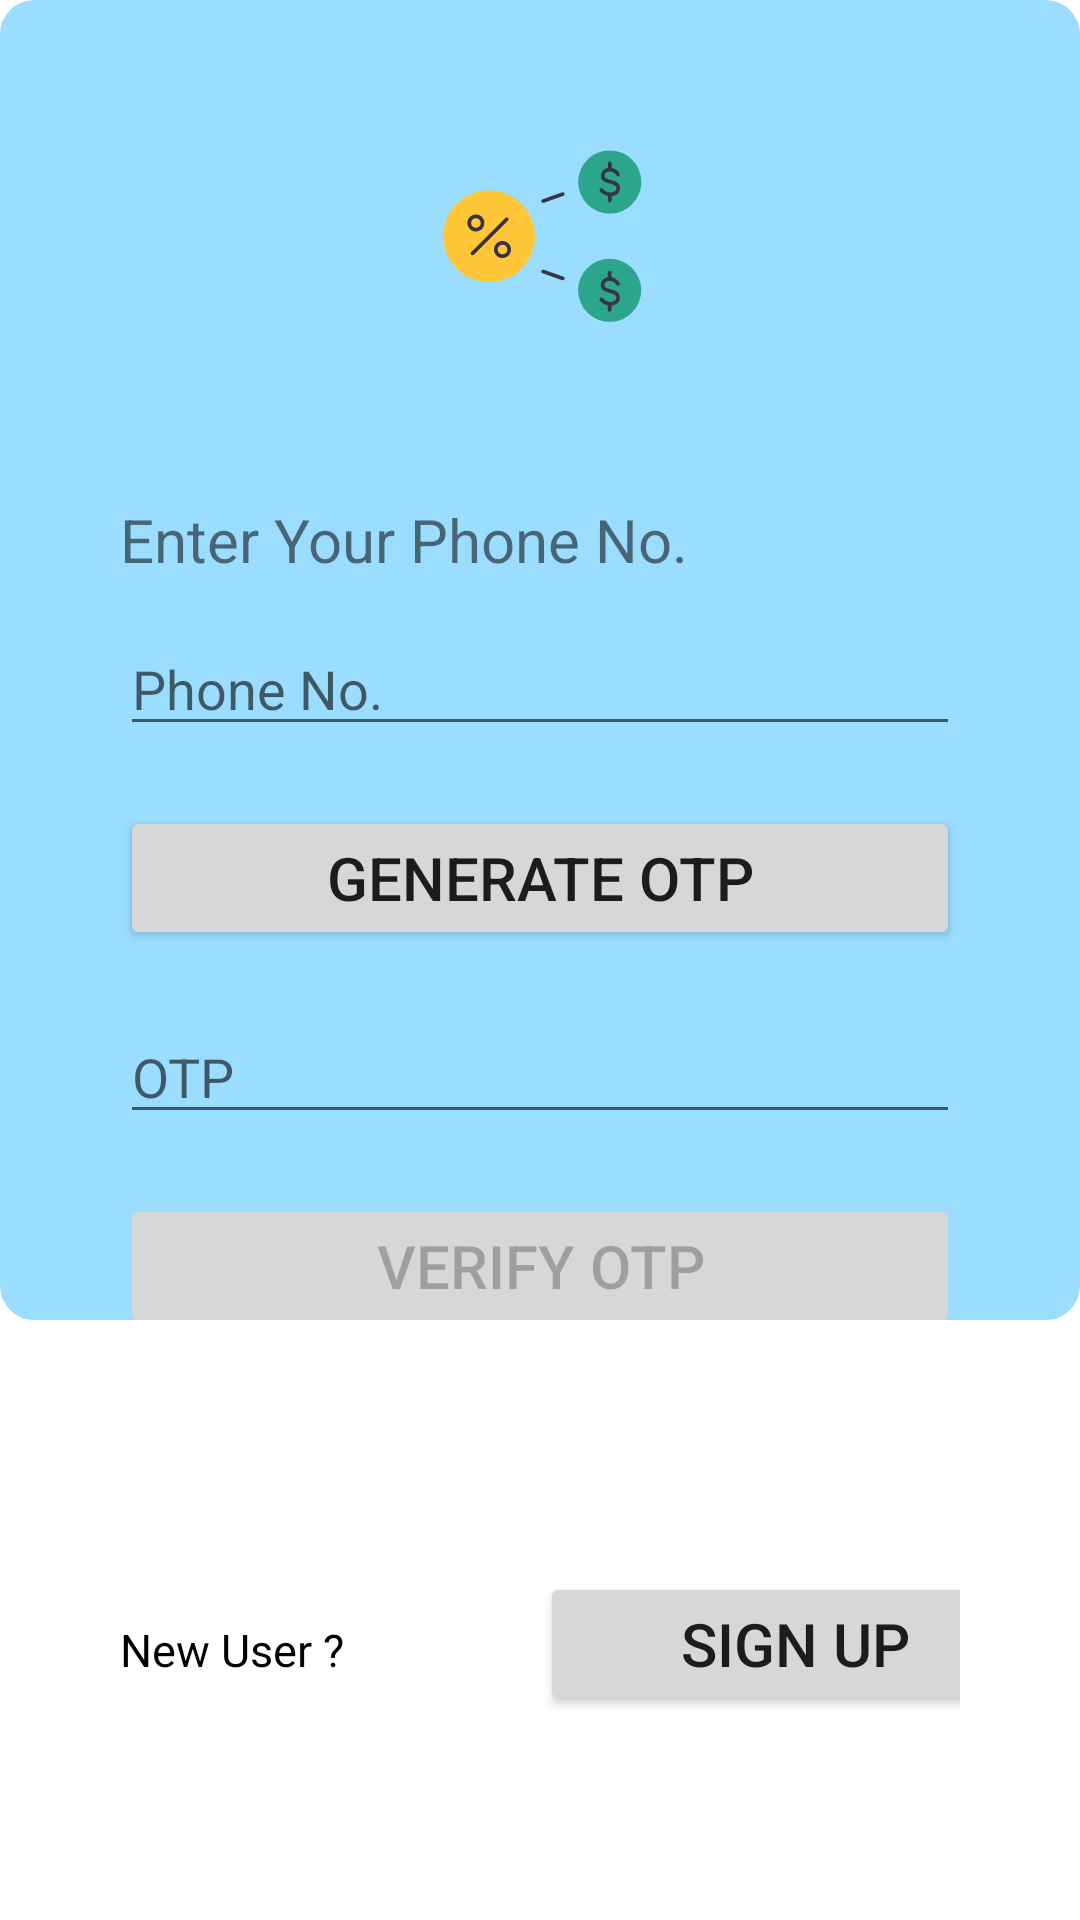

Where to tap for icons on this 1080*1920 app screen, as (x,y):
dividends: (542,236)
